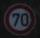Speed Limit -70-: (0, 0, 39, 37)
